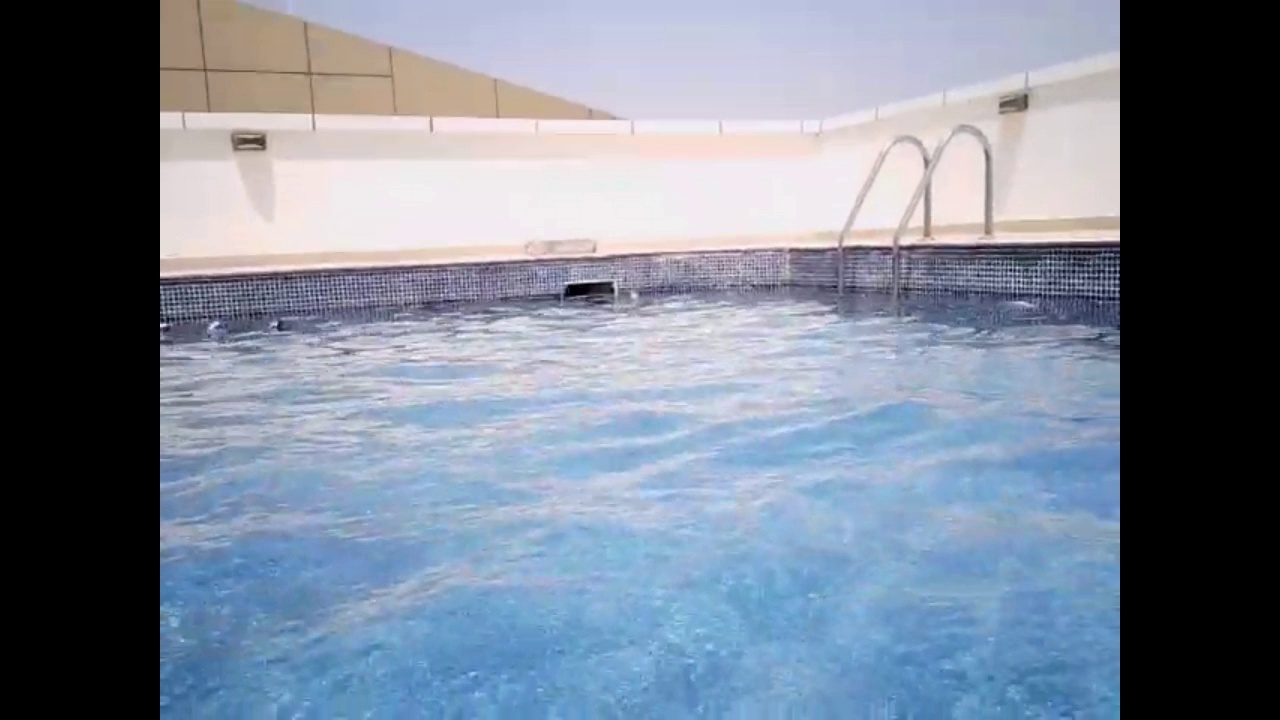debris: (205, 319, 229, 340), (264, 319, 288, 334), (626, 287, 642, 301), (161, 321, 170, 335)
